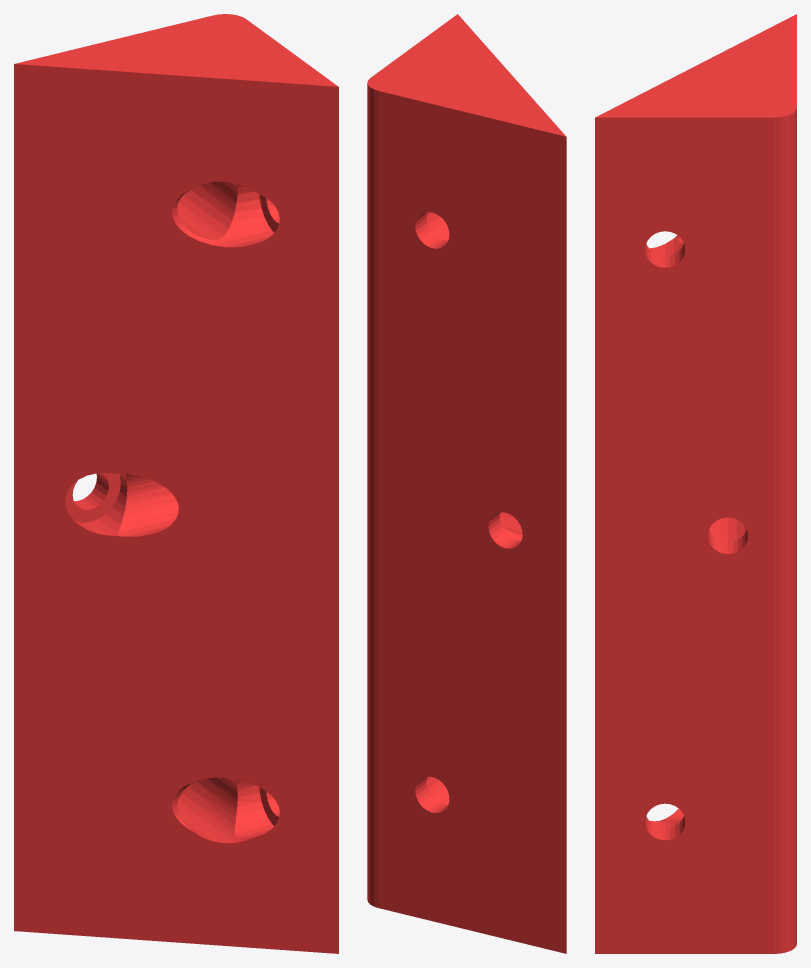
The model's file is body_Cap_Mount_Stiffener_Cap_Mount_Stiffener.obj.
3 renders of one model, left to right at view 1: azimuth 30°, elevation 25°; view 2: azimuth 150°, elevation 25°; view 3: azimuth 270°, elevation 25°, orthographic. The views are drawn at different scales.
Size of the model in its own units: 0.027 by 0.1016 by 0.0222.
